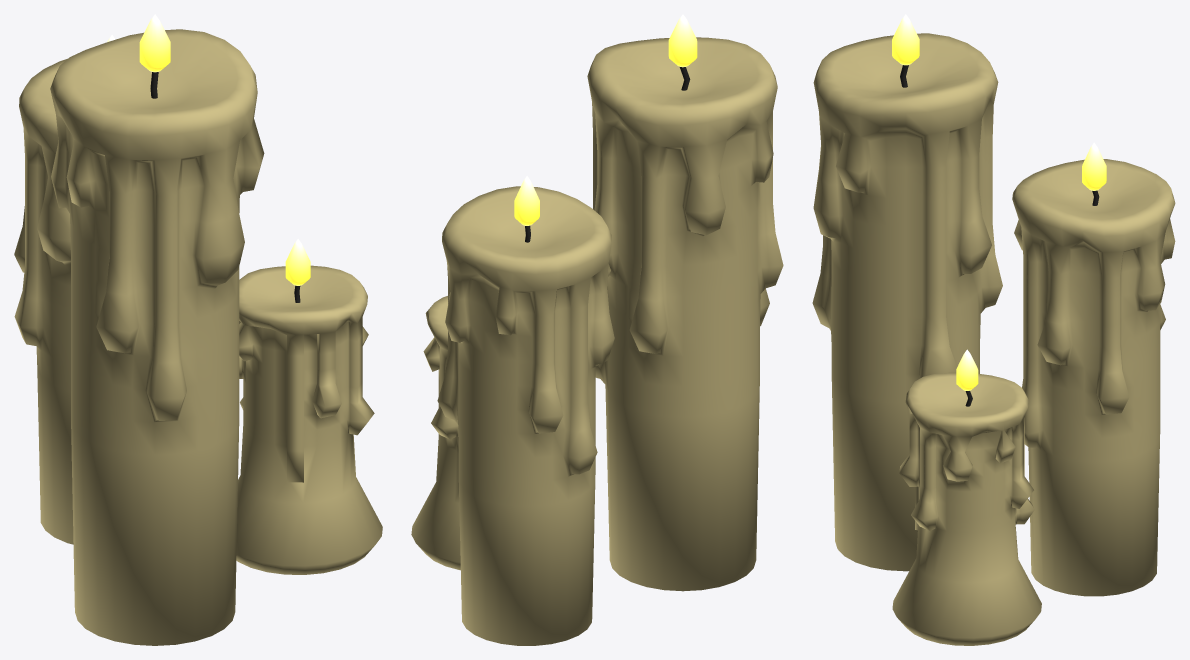
File: Bougies.fbx
3 views of the same model, side by side, from view 1: azimuth 30°, elevation 25°; view 2: azimuth 150°, elevation 25°; view 3: azimuth 270°, elevation 25° (orthographic). The views are drawn at different scales.
Parts seen in each view (by area): view 1: Bougies; view 2: Bougies; view 3: Bougies.
Boxes of the visible parts, x1,y1,x2,y2 form: Bougies: (14, 14, 382, 645); Bougies: (411, 14, 783, 645); Bougies: (812, 14, 1175, 645).
Size of the model in its own units: 23.12 by 39.12 by 24.18.
1 material, 1 textured.
